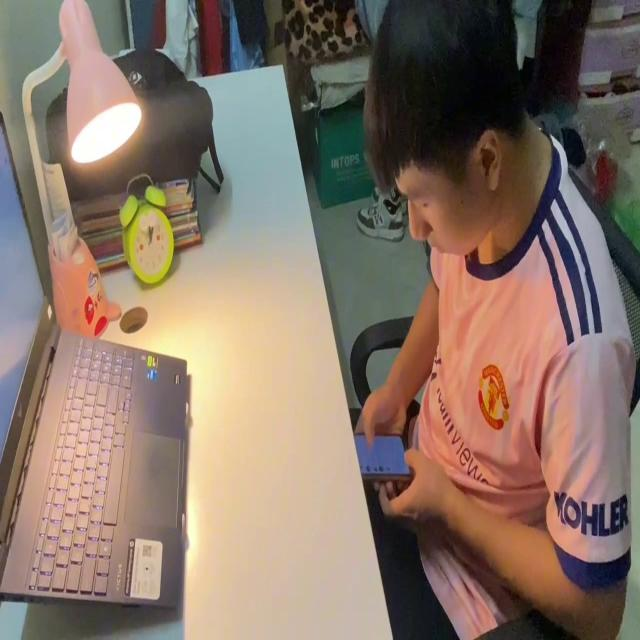laptop: (0, 111, 192, 611)
phone: (353, 429, 412, 489)
student: (357, 0, 634, 640)
